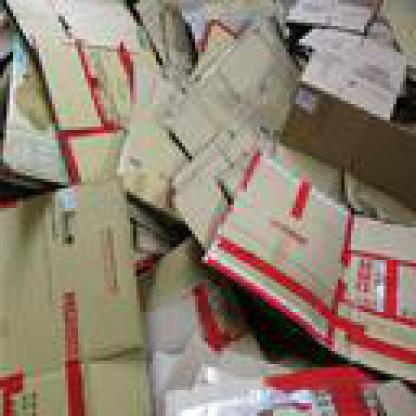CARDBOARD: (0, 0, 413, 413), (192, 143, 412, 377), (0, 6, 176, 260), (0, 0, 192, 185), (0, 176, 146, 413), (169, 117, 413, 257), (127, 228, 263, 413), (166, 17, 296, 150), (276, 81, 413, 205), (159, 361, 413, 413), (114, 69, 192, 214), (292, 26, 406, 114), (166, 0, 276, 52), (273, 0, 380, 36), (126, 0, 188, 62), (185, 13, 234, 71), (361, 16, 396, 46)
